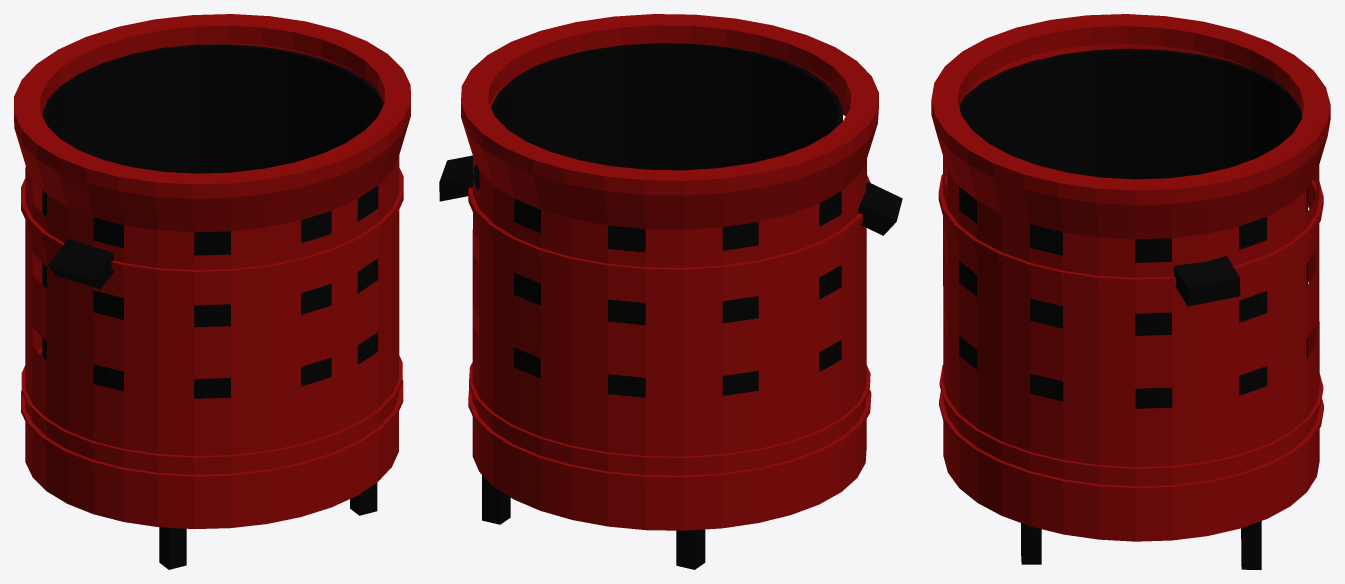
The model's file is barrel.fbx.
3 renders of one model, left to right at view 1: azimuth 30°, elevation 25°; view 2: azimuth 150°, elevation 25°; view 3: azimuth 270°, elevation 25°, orthographic.
Visible parts, largest first — view 1: 柱体; view 2: 柱体; view 3: 柱体.
Part boxes in pixels (bbox=[...]): 柱体: bbox=[14, 14, 410, 569]; 柱体: bbox=[439, 14, 902, 569]; 柱体: bbox=[931, 14, 1330, 569].
Size of the model in its own units: 34.23 by 33.91 by 30.1.
